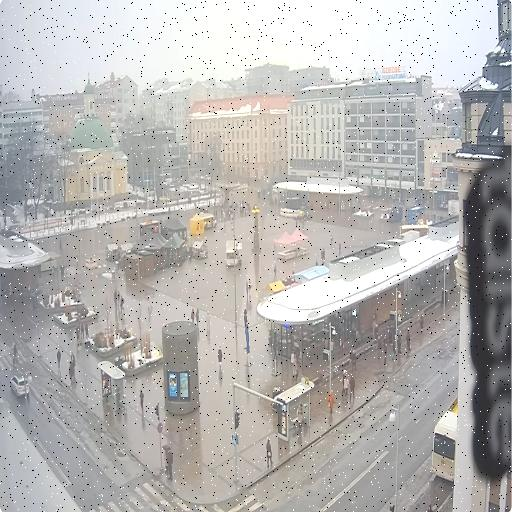bus: (431, 398, 458, 480)
